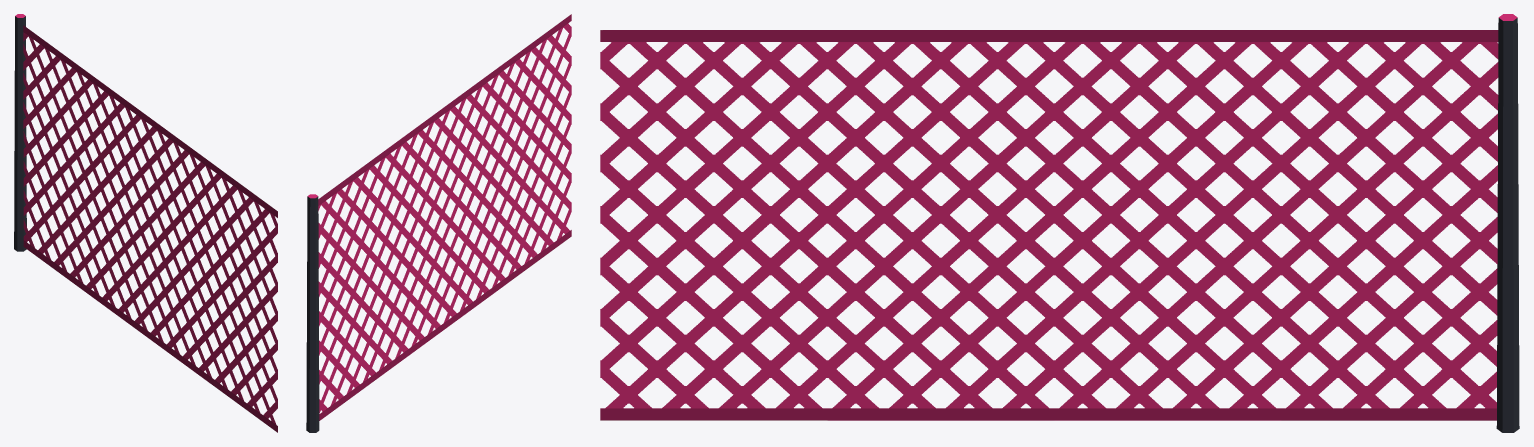
The model's file is SKI_PROP_FenceModule-CfRskv0z.glb.
3 renders of one model, left to right at view 1: azimuth 30°, elevation 25°; view 2: azimuth 150°, elevation 25°; view 3: azimuth 270°, elevation 25°, orthographic. The views are drawn at different scales.
Parts seen in each view (by area): view 1: SKI_PROP_FenceModule; view 2: SKI_PROP_FenceModule; view 3: SKI_PROP_FenceModule.
Part boxes in pixels (bbox=[...]): SKI_PROP_FenceModule: bbox=[14, 14, 277, 432]; SKI_PROP_FenceModule: bbox=[306, 14, 571, 432]; SKI_PROP_FenceModule: bbox=[600, 14, 1519, 432].
Bounding box in the file's own units: 0.0433 × 1 × 2.03.
1 material, 1 textured.
